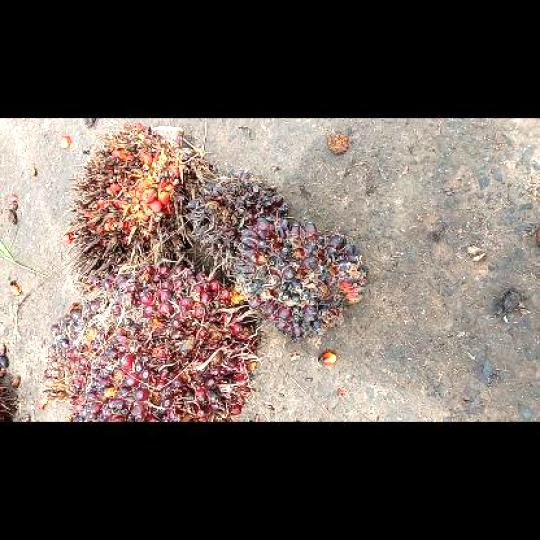masak: (37, 255, 262, 420)
terlalu masak: (62, 119, 210, 291)
